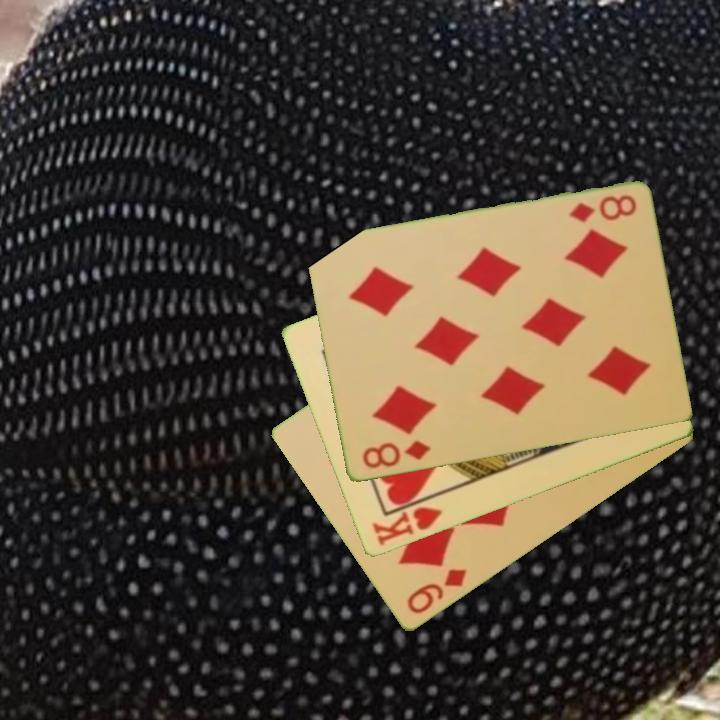8d: (564, 191, 639, 226), (359, 437, 433, 472)
9d: (403, 565, 470, 618)
Kh: (368, 492, 445, 549)
